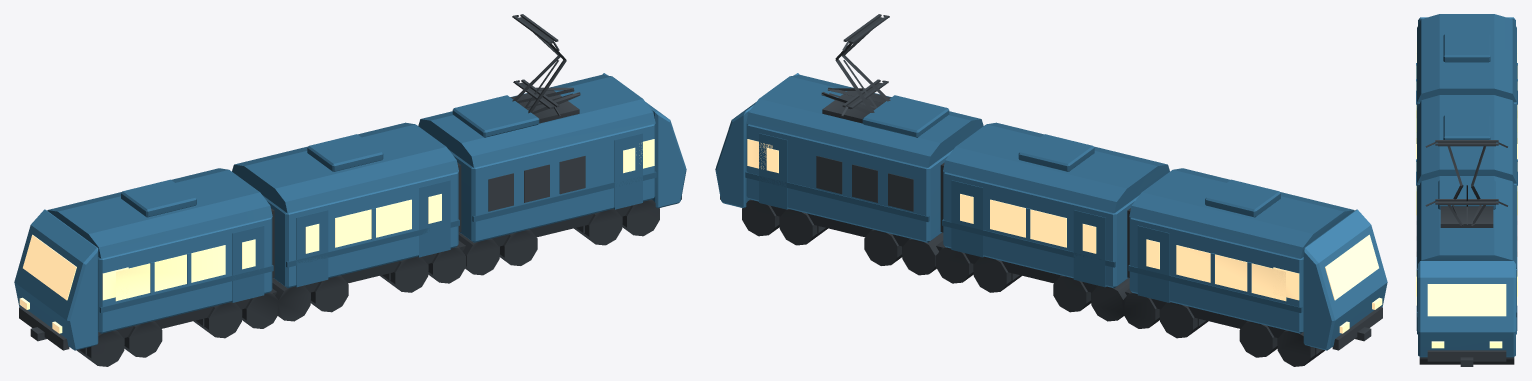
File: transit-train.glb
The picture shows the model from 3 angles, left to right: view 1: azimuth 30°, elevation 25°; view 2: azimuth 150°, elevation 25°; view 3: azimuth 270°, elevation 25°; orthographic projection. The views are drawn at different scales.
Parts seen in each view (by area): view 1: Train, PantographRaised, PantographLowered; view 2: Train, PantographRaised, PantographLowered; view 3: Train, PantographRaised, PantographLowered.
Boxes of the visible parts, x1,y1,x2,y2 form: Train: (14,73,686,366); PantographRaised: (512,14,566,113); PantographLowered: (513,79,580,116); Train: (715,73,1387,366); PantographRaised: (835,14,890,112); PantographLowered: (821,79,888,116); Train: (1416,14,1517,366); PantographRaised: (1425,140,1507,206); PantographLowered: (1425,199,1507,226).
Size of the model in its own units: 12.39 by 3.9 by 1.94.
